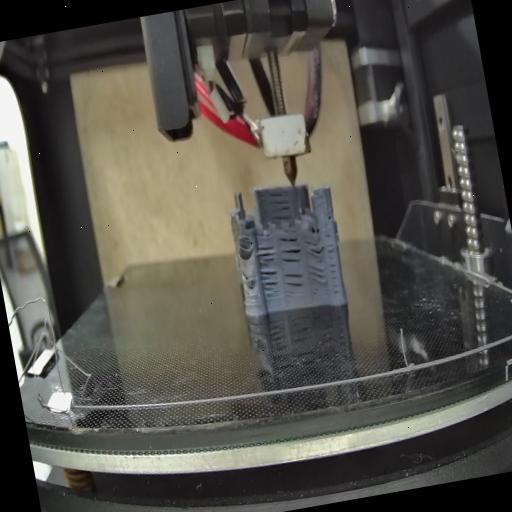cracks: (320, 228, 342, 295), (264, 188, 293, 222), (275, 232, 303, 266), (258, 265, 282, 299), (280, 268, 306, 298), (304, 261, 328, 288), (304, 236, 325, 260), (256, 240, 276, 263), (236, 241, 250, 259), (238, 268, 250, 282), (324, 206, 332, 220)
